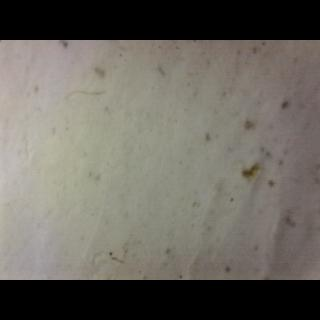Microplastic: (66, 86, 108, 100)
